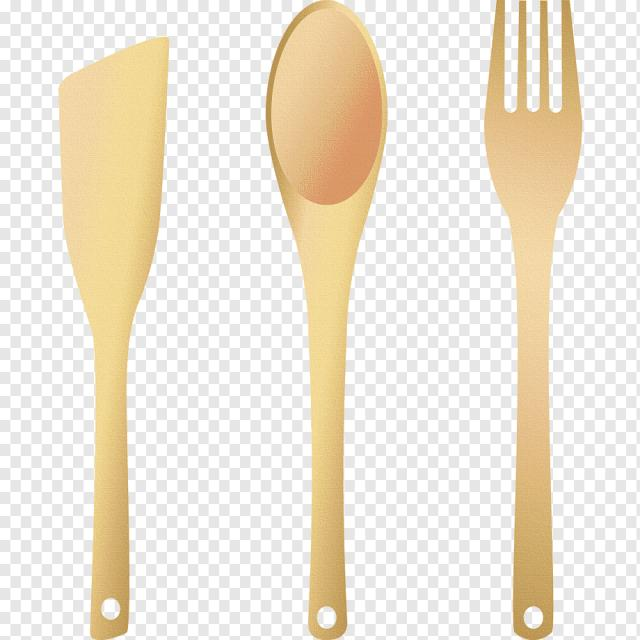Garpu: (473, 0, 587, 637)
Sendok: (245, 0, 398, 632)
